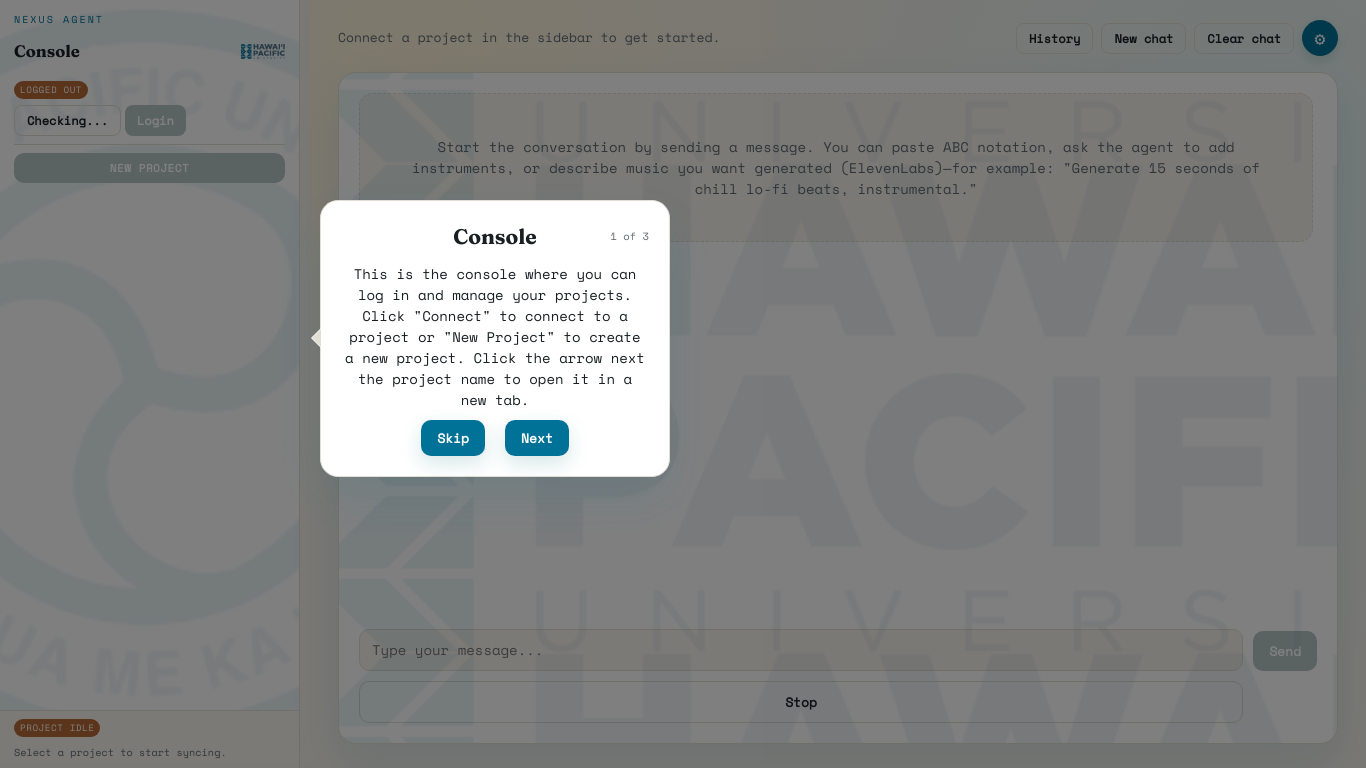
Test: App component › Tutorial › advances to the next tutorial step when Next is clicked
Click the button "Next": click(537, 438) [505, 420, 569, 456]
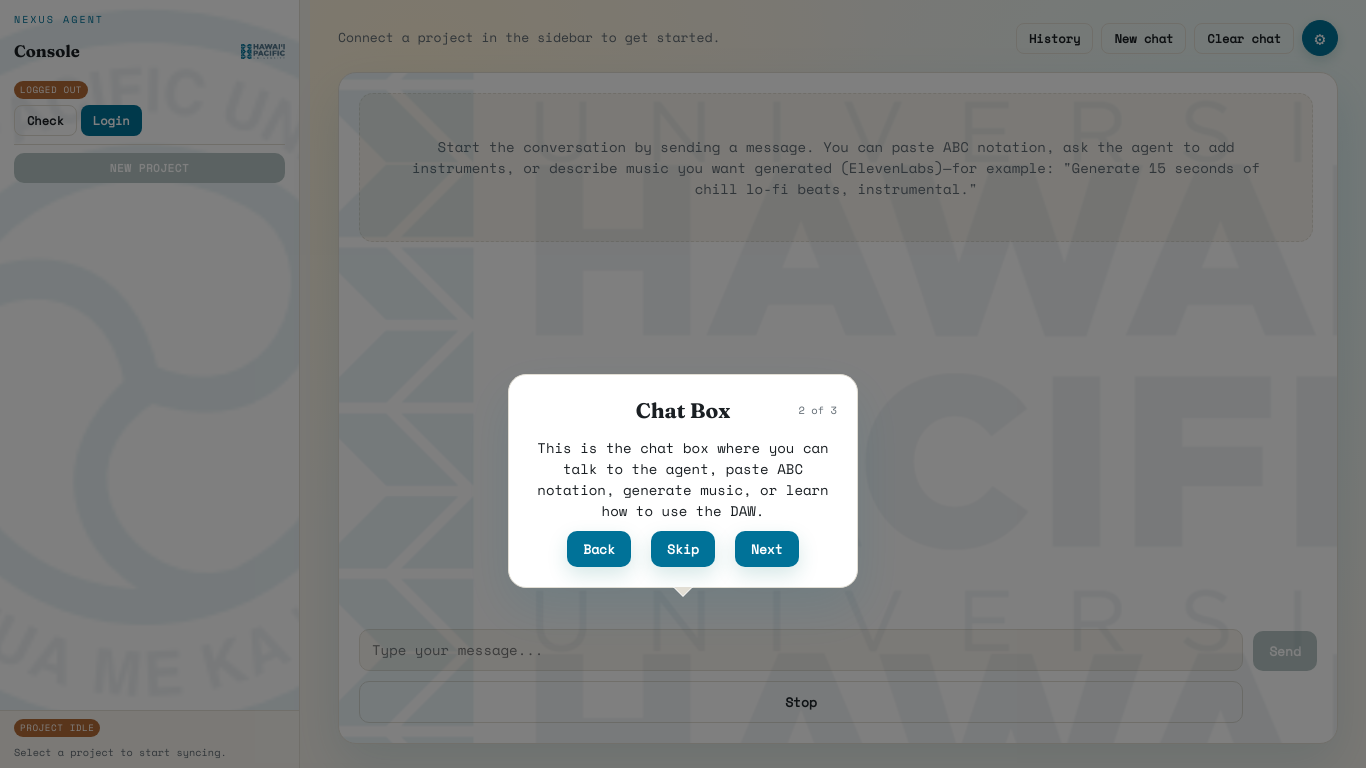
Result: the heading "Chat Box" is shown at [636, 397, 730, 423]
Result: the text "This is the chat box where you can talk to the agent, paste ABC notation, generate music" is shown at [537, 436, 829, 520]
